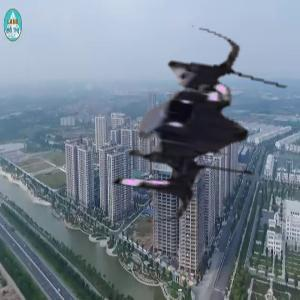drone: (82, 20, 299, 237)
